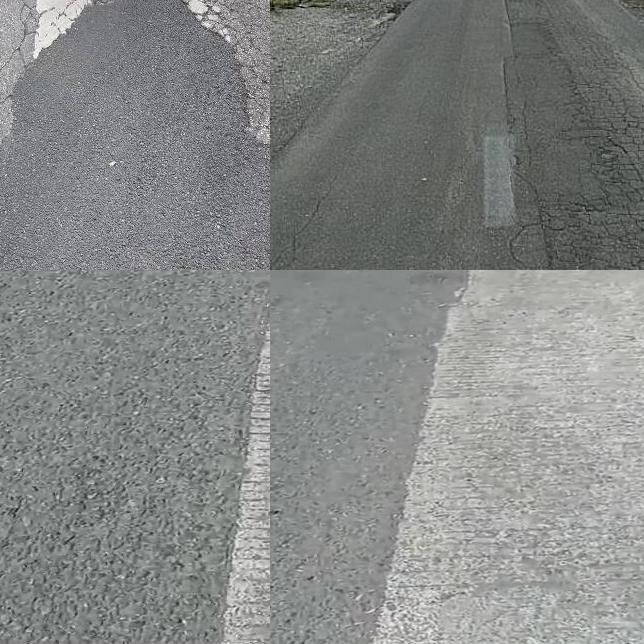Retak Buaya: (571, 61, 644, 254)
Sambungan: (366, 270, 644, 644), (0, 0, 270, 270)
